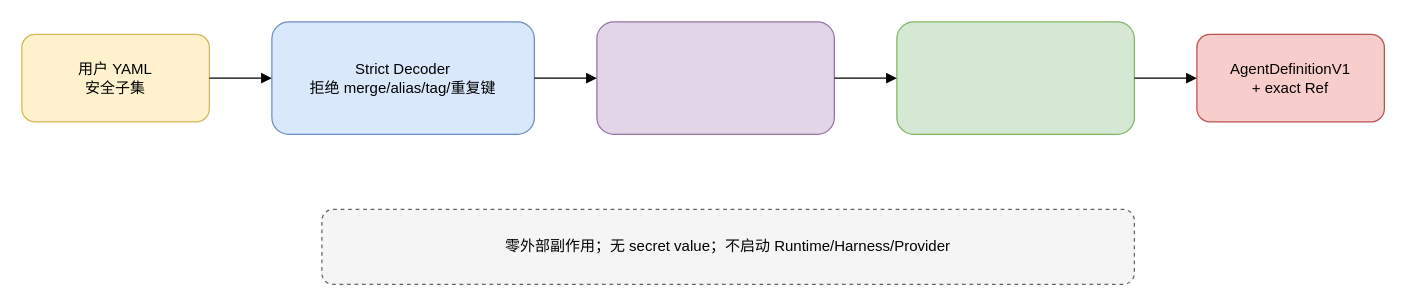
This 1406x306 diagram has some shape labels left out. Each missing label, with the centre of its shape:
"AgentDefinitionSourceV1 严格 JSON 语义树" belongs at (715,77).
"Definition Owner Validate / create-once / Seal" belongs at (1015,77).
